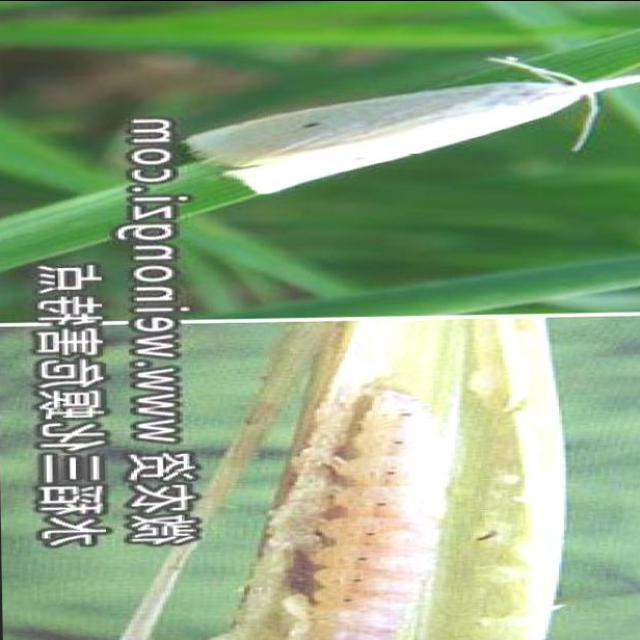stem borer: (187, 58, 640, 193), (289, 385, 454, 640)
